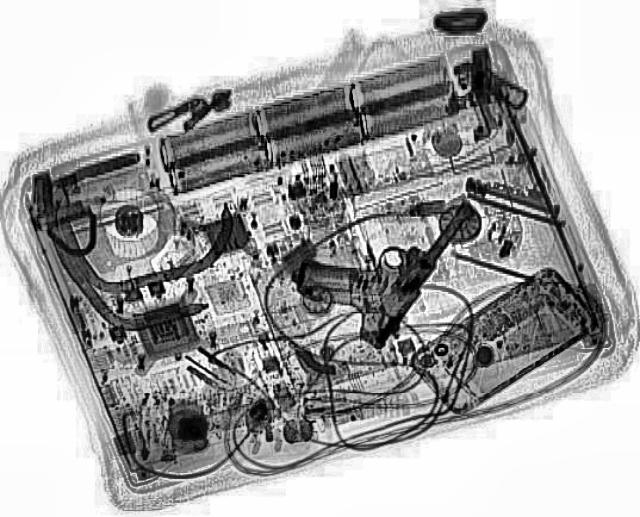Gun: (277, 163, 481, 345)
